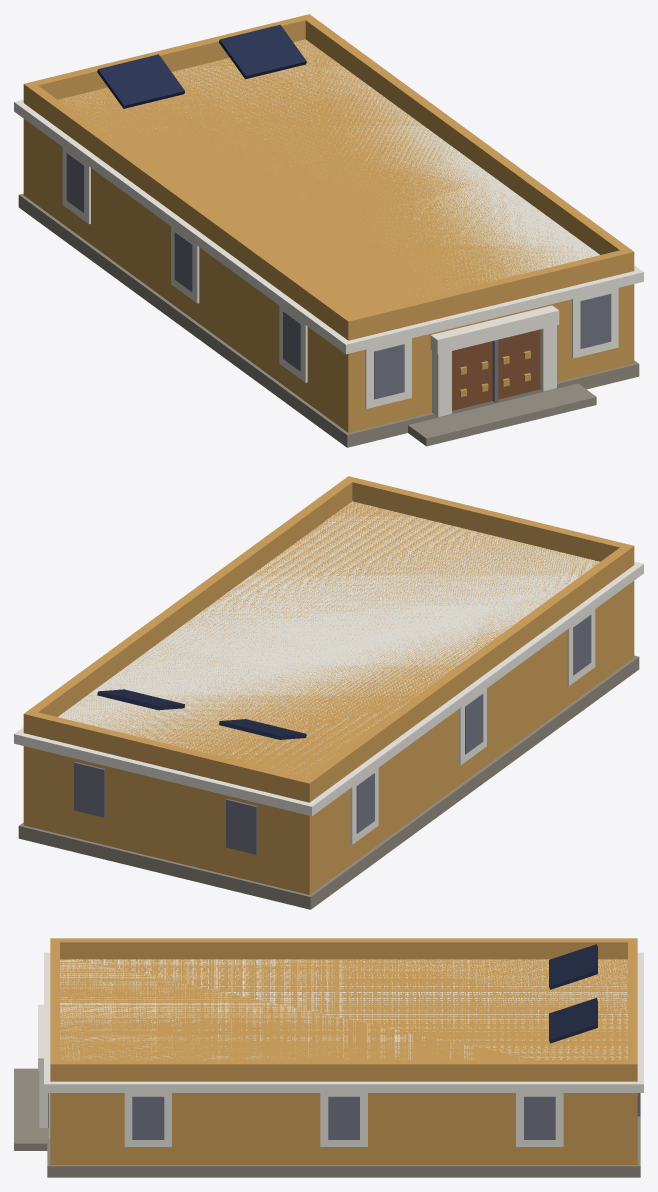
The model's file is house-1x2-1f-quincha-a-solar.glb.
3 views of the same model, one above another, from view 1: azimuth 30°, elevation 25°; view 2: azimuth 150°, elevation 25°; view 3: azimuth 270°, elevation 25° (orthographic). The views are drawn at different scales.
Parts seen in each view (by area): view 1: house-1x2-1f-quincha-a-solar; view 2: house-1x2-1f-quincha-a-solar; view 3: house-1x2-1f-quincha-a-solar.
Part boxes in pixels (x1,y1,x2,y2): house-1x2-1f-quincha-a-solar: [14, 14, 643, 447]; house-1x2-1f-quincha-a-solar: [14, 476, 643, 909]; house-1x2-1f-quincha-a-solar: [14, 938, 643, 1177].
Size of the model in its own units: 0.98 by 0.4486 by 1.99.
1 material, 1 textured.
